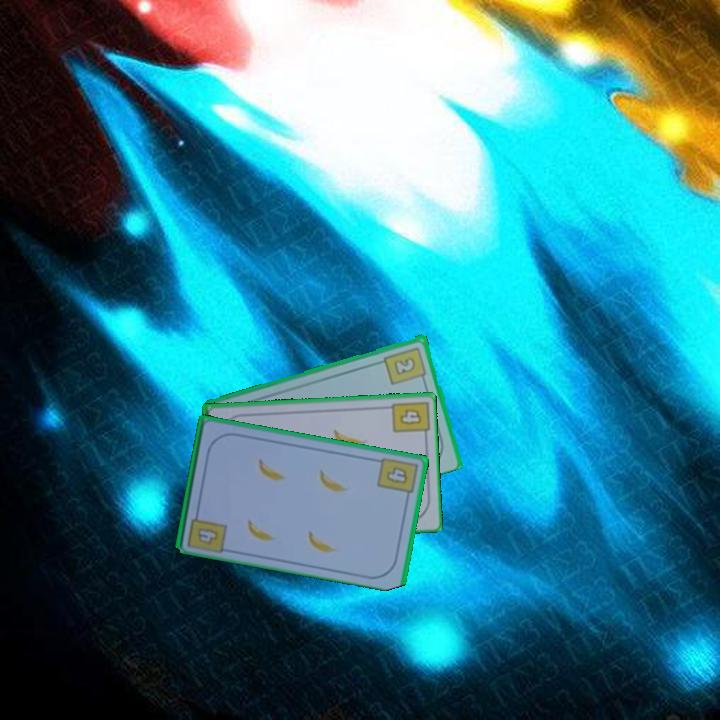2b: (381, 343, 430, 387)
4b: (374, 453, 420, 502), (194, 523, 221, 547), (397, 405, 425, 428)
